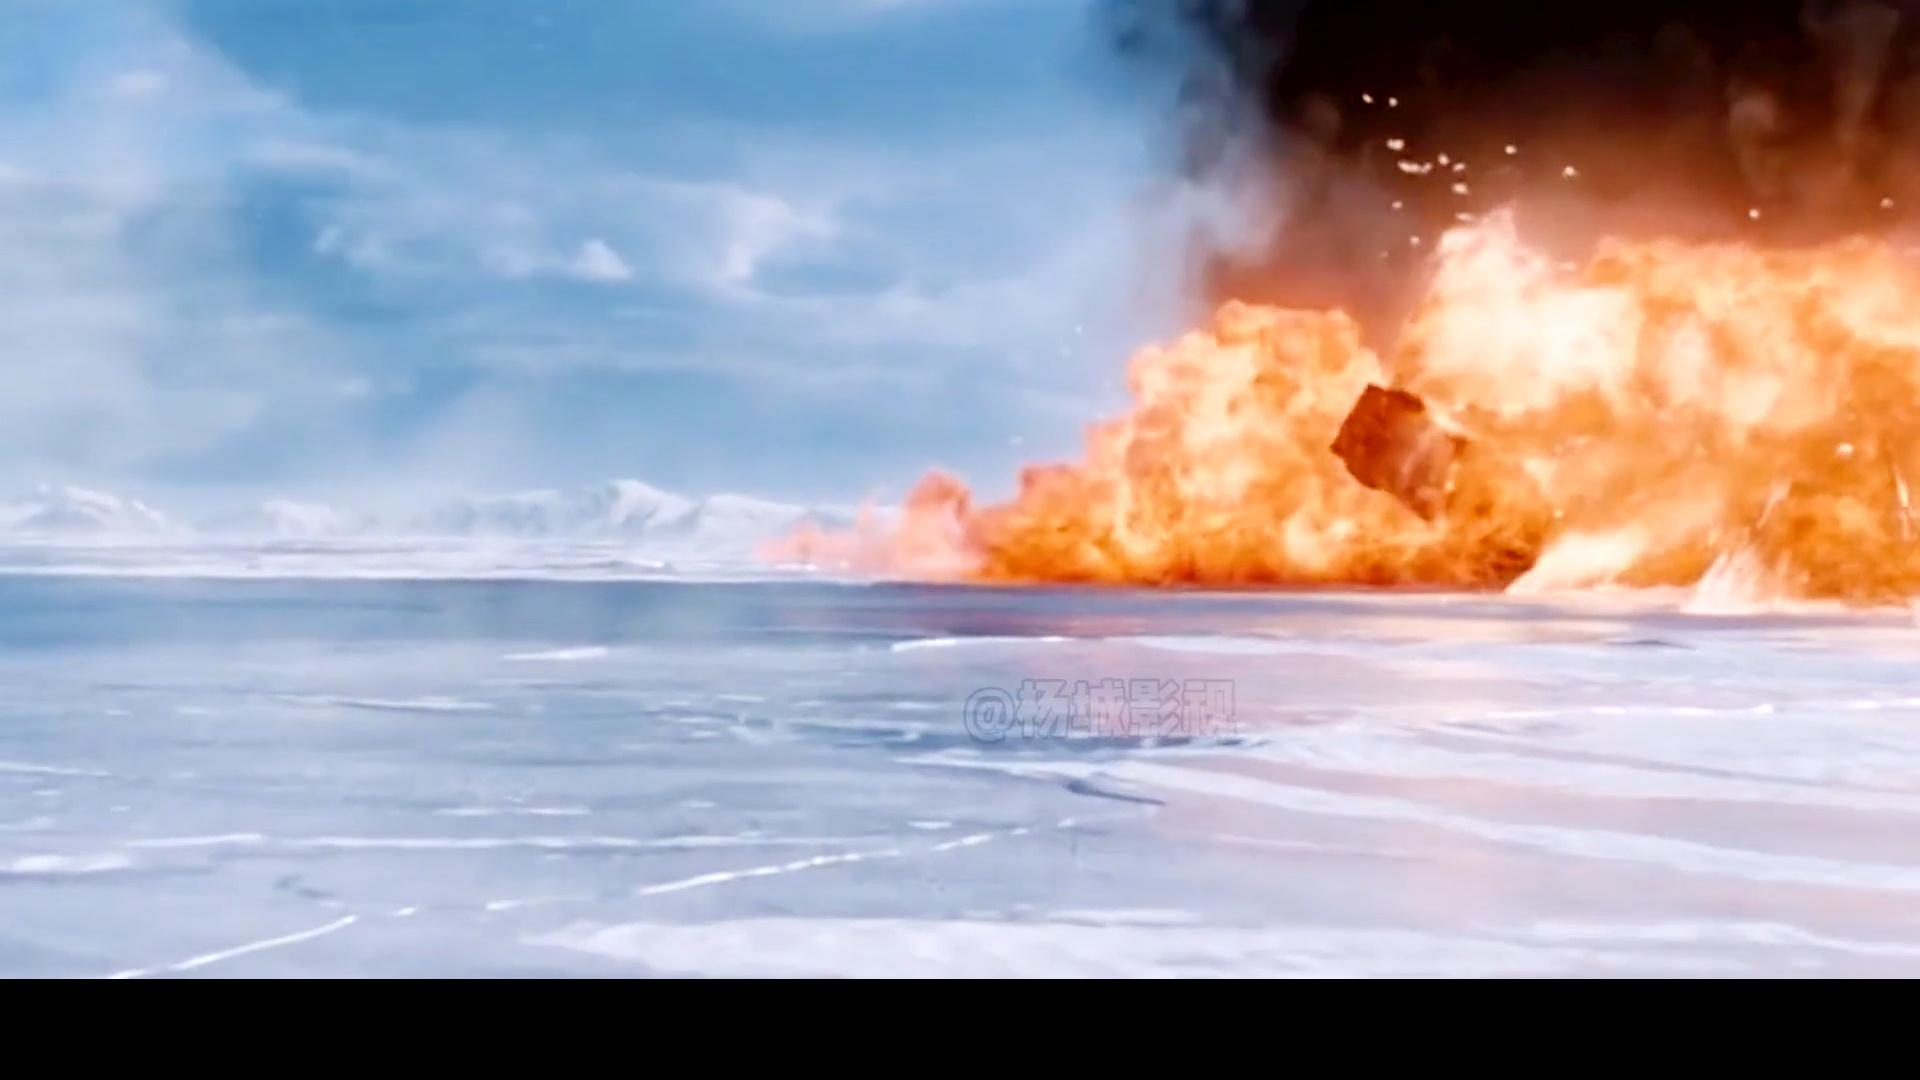fire: (775, 82, 1920, 604)
